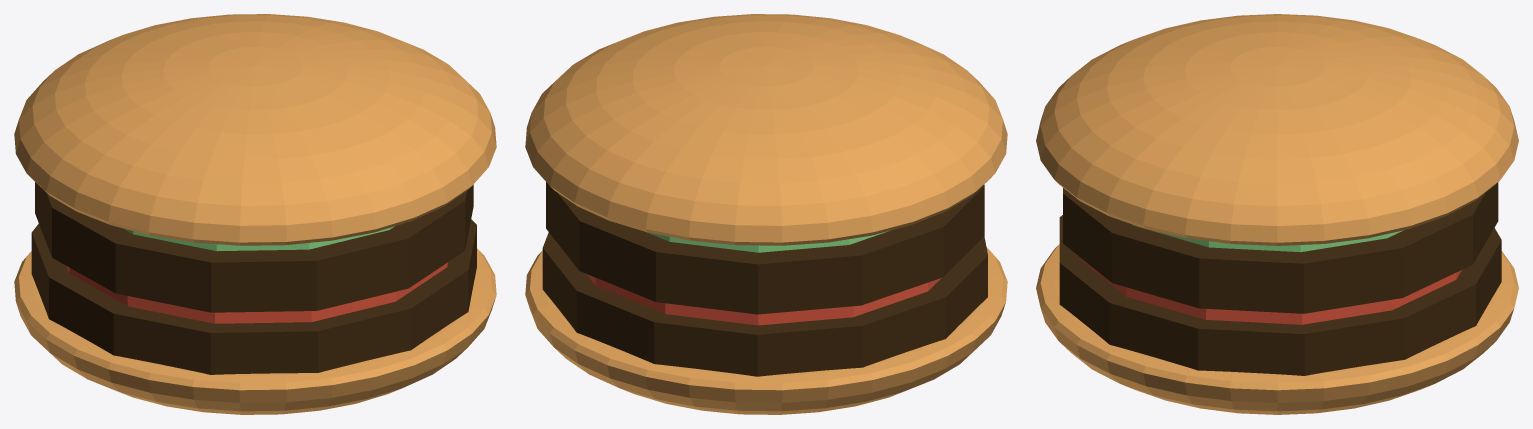
Rendered from burger.fbx.
3 renders of one model, left to right at view 1: azimuth 30°, elevation 25°; view 2: azimuth 150°, elevation 25°; view 3: azimuth 270°, elevation 25°, orthographic.
Parts seen in each view (by area): view 1: Sphere, Cylinder.003, Cylinder.005, Cylinder.004, Cylinder.002; view 2: Sphere, Cylinder.003, Cylinder.005, Cylinder.004, Cylinder.002; view 3: Sphere, Cylinder.003, Cylinder.005, Cylinder.004, Cylinder.002.
Part boxes in pixels (bbox=[...]): Sphere: bbox=[14, 14, 496, 414]; Cylinder.003: bbox=[35, 182, 473, 312]; Cylinder.005: bbox=[31, 219, 476, 374]; Cylinder.004: bbox=[66, 262, 448, 323]; Cylinder.002: bbox=[123, 226, 394, 251]; Sphere: bbox=[525, 14, 1007, 414]; Cylinder.003: bbox=[546, 182, 984, 314]; Cylinder.005: bbox=[542, 232, 987, 376]; Cylinder.004: bbox=[586, 274, 941, 325]; Cylinder.002: bbox=[646, 231, 888, 252]; Sphere: bbox=[1036, 14, 1518, 414]; Cylinder.003: bbox=[1063, 182, 1498, 313]; Cylinder.005: bbox=[1059, 215, 1501, 375]; Cylinder.004: bbox=[1081, 258, 1461, 324]; Cylinder.002: bbox=[1132, 224, 1403, 252].
Size of the model in its own units: 17.84 by 12.16 by 17.84.
